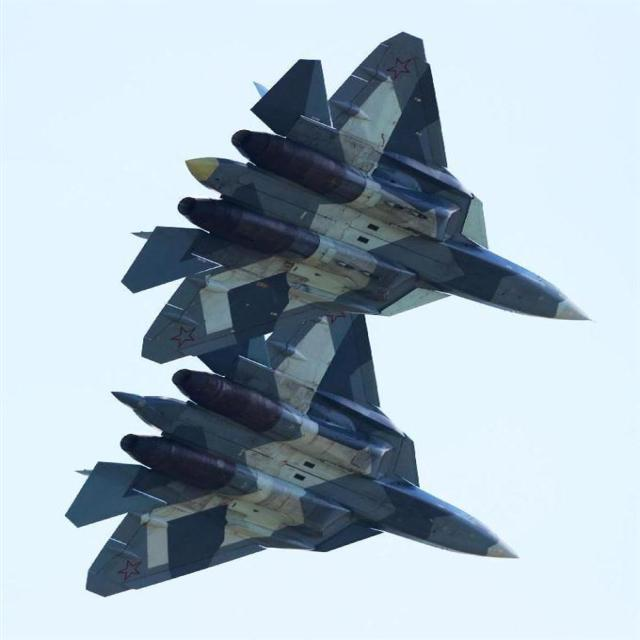MIL_Plane: (120, 32, 596, 364), (64, 313, 520, 598)
